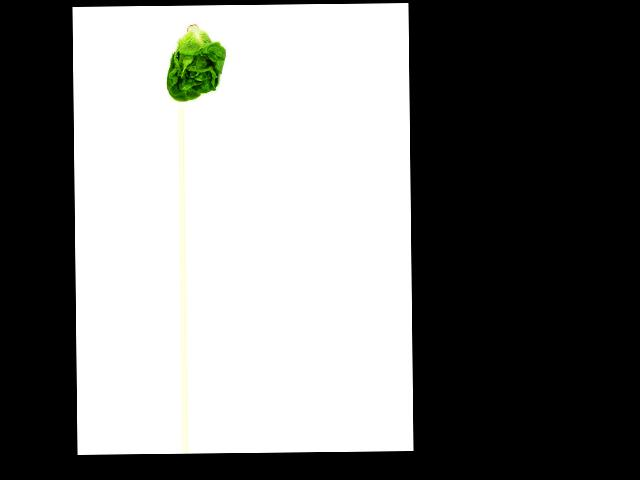lettuce: (164, 21, 230, 101)
